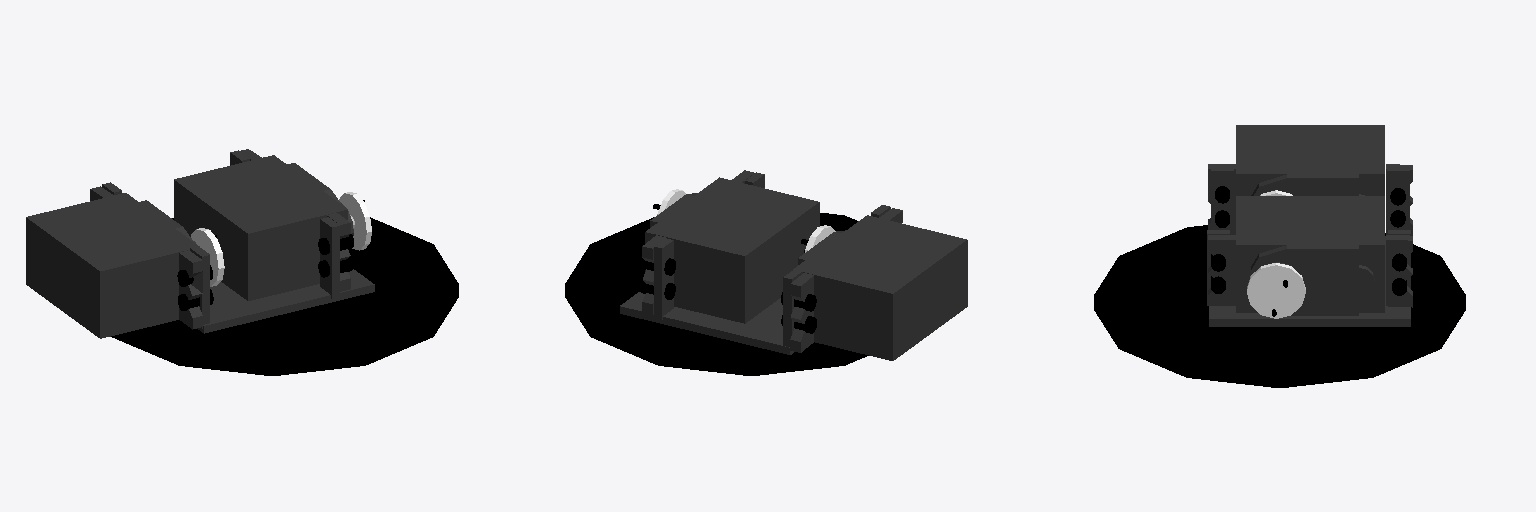
File: body.obj
3 views of the same model, side by side, from view 1: azimuth 30°, elevation 25°; view 2: azimuth 150°, elevation 25°; view 3: azimuth 270°, elevation 25° (orthographic).
Parts seen in each view (by area): view 1: cylinde121, box[number redacted], box[number redacted], box[number redacted], block00107, box[number redacted], cylinde105, cylinde120, box[number redacted], block00114; view 2: box[number redacted], box[number redacted], cylinde121, box[number redacted], box[number redacted], block00109, box[number redacted], block00116; view 3: cylinde121, box[number redacted], box[number redacted], block00117, box[number redacted], cylinde105, block00110, block00114, block00116, box[number redacted], box[number redacted].
Boxes of the visible parts, <box> form: cylinde121: <box>111,217,458,375</box>; box[number redacted]: <box>26,193,199,338</box>; box[number redacted]: <box>174,155,347,300</box>; box[number redacted]: <box>197,269,374,333</box>; block00107: <box>179,250,202,329</box>; box[number redacted]: <box>320,217,339,298</box>; cylinde105: <box>339,192,371,250</box>; cylinde120: <box>191,228,224,286</box>; box[number redacted]: <box>190,246,209,328</box>; block00114: <box>327,213,350,291</box>; box[number redacted]: <box>793,215,967,360</box>; box[number redacted]: <box>645,177,819,323</box>; cylinde121: <box>565,213,868,375</box>; box[number redacted]: <box>620,292,793,354</box>; box[number redacted]: <box>654,238,673,319</box>; block00109: <box>790,273,813,352</box>; box[number redacted]: <box>783,269,802,346</box>; block00116: <box>642,235,665,315</box>; cylinde121: <box>1094,225,1465,387</box>; box[number redacted]: <box>1236,196,1384,312</box>; box[number redacted]: <box>1236,125,1384,195</box>; block00117: <box>1251,245,1358,315</box>; box[number redacted]: <box>1209,236,1410,326</box>; cylinde105: <box>1247,263,1305,318</box>; block00110: <box>1251,174,1358,195</box>; block00114: <box>1208,235,1235,305</box>; block00116: <box>1386,235,1412,307</box>; box[number redacted]: <box>1211,167,1233,234</box>; box[number redacted]: <box>1387,167,1409,234</box>.
Size of the model in its own units: 0.7188 by 0.177 by 0.6522.